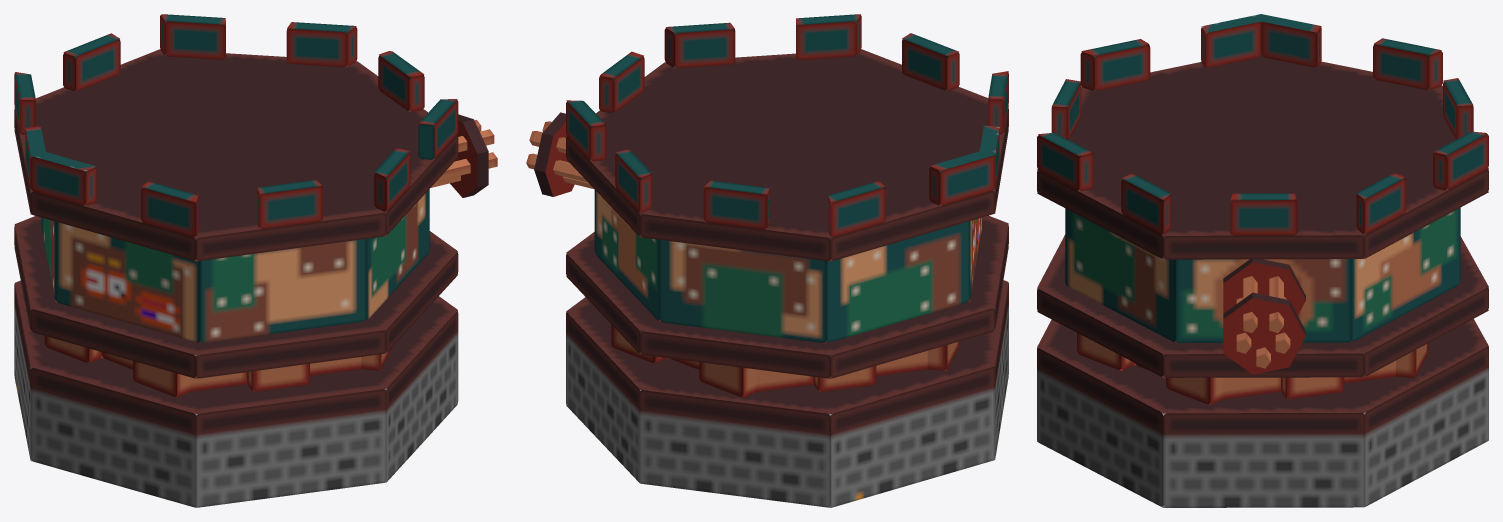
The model's file is Pneumatic_Gattling_Tower.fbx.
3 renders of one model, left to right at view 1: azimuth 30°, elevation 25°; view 2: azimuth 150°, elevation 25°; view 3: azimuth 270°, elevation 25°, orthographic.
Visible parts, largest first — view 1: base_1, base_2, cannon_body, castle, base, gear, base_4, barrel_3; view 2: base_1, base_2, cannon_body, castle, base, gear, base_4, barrel_2; view 3: base_1, base_2, castle, cannon_body, base, gear, base_4, base_3, barrel_1, barrel.
Boxes of the visible parts, box(x1,y1,x2,y2) form: base_1: box(14, 49, 458, 261); base_2: box(14, 280, 458, 507); cannon_body: box(41, 189, 429, 342); castle: box(14, 14, 458, 237); base: box(14, 216, 458, 378); gear: box(44, 336, 392, 397); base_4: box(450, 114, 488, 197); barrel_3: box(437, 152, 497, 181); base_1: box(566, 49, 1008, 261); base_2: box(566, 280, 1008, 507); cannon_body: box(594, 189, 981, 343); castle: box(566, 14, 1008, 237); base: box(566, 215, 1008, 378); gear: box(611, 324, 959, 397); base_4: box(534, 112, 574, 196); barrel_2: box(526, 153, 587, 182); base_1: box(1037, 54, 1488, 259); base_2: box(1037, 319, 1488, 507); castle: box(1037, 14, 1488, 235); cannon_body: box(1065, 207, 1460, 342); base: box(1037, 234, 1488, 377); gear: box(1077, 333, 1428, 404); base_4: box(1223, 292, 1305, 374); base_3: box(1223, 259, 1305, 315); barrel_1: box(1269, 276, 1283, 332); barrel: box(1243, 276, 1257, 332).
Bounding box in the file's own units: 507 × 325 × 433.
1 material, 1 textured.
